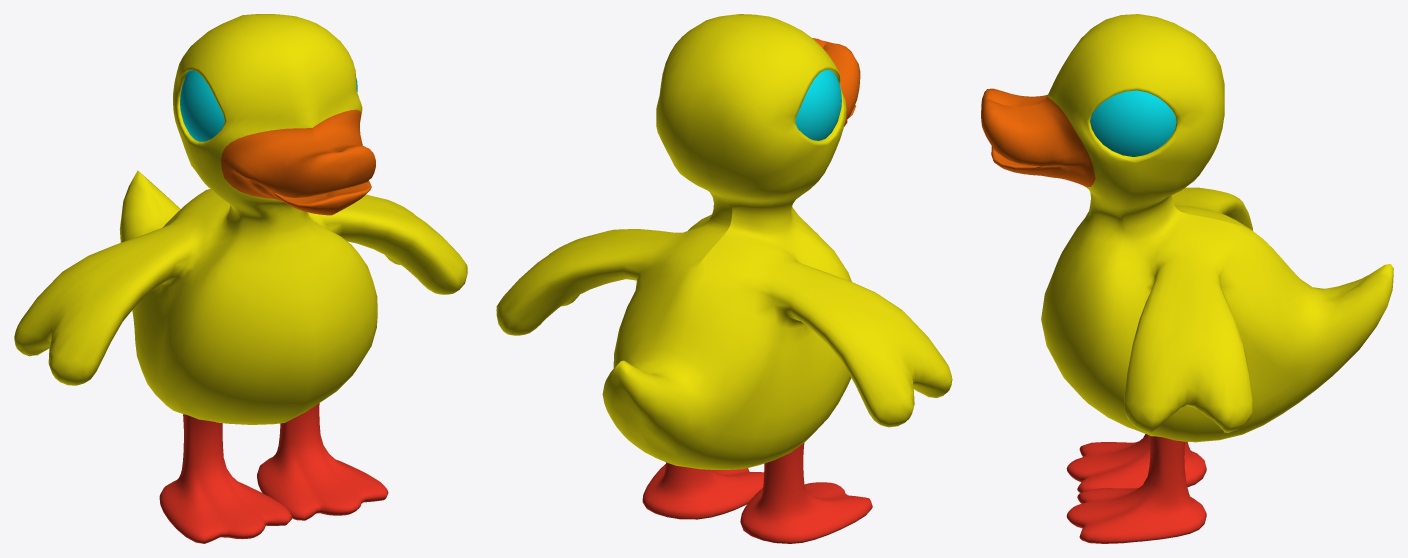
File: duck.fbx
3 views of the same model, side by side, from view 1: azimuth 30°, elevation 25°; view 2: azimuth 150°, elevation 25°; view 3: azimuth 270°, elevation 25° (orthographic). The views are drawn at different scales.
Parts seen in each view (by area): view 1: Body; view 2: Body; view 3: Body.
Boxes of the visible parts, bbox=[...] form: Body: bbox=[14, 14, 467, 543]; Body: bbox=[496, 14, 952, 543]; Body: bbox=[981, 14, 1393, 543].
Size of the model in its own units: 281 by 310 by 246.
